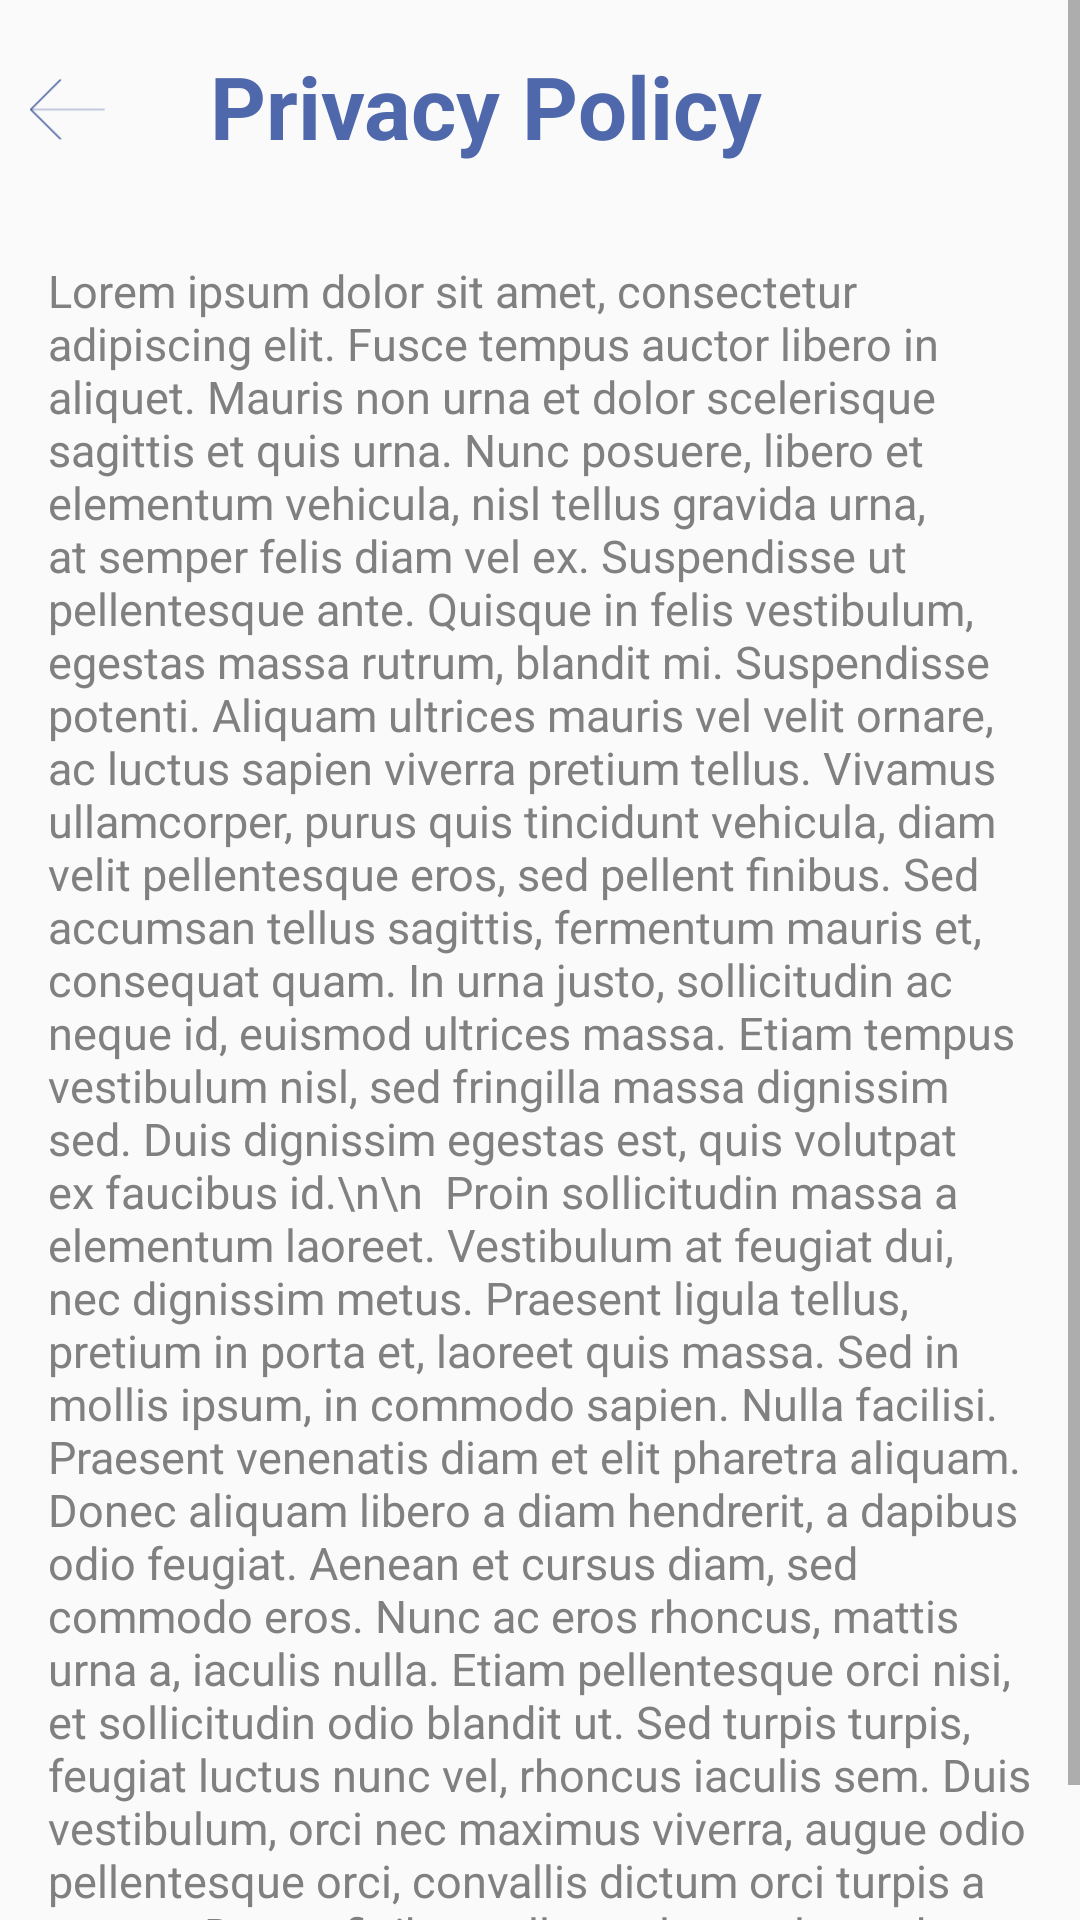

Icons on this 1080px×1920px Android screen, each with its box as [x1,y1,x2,y2]:
bluearrow: [30,79,105,140]
